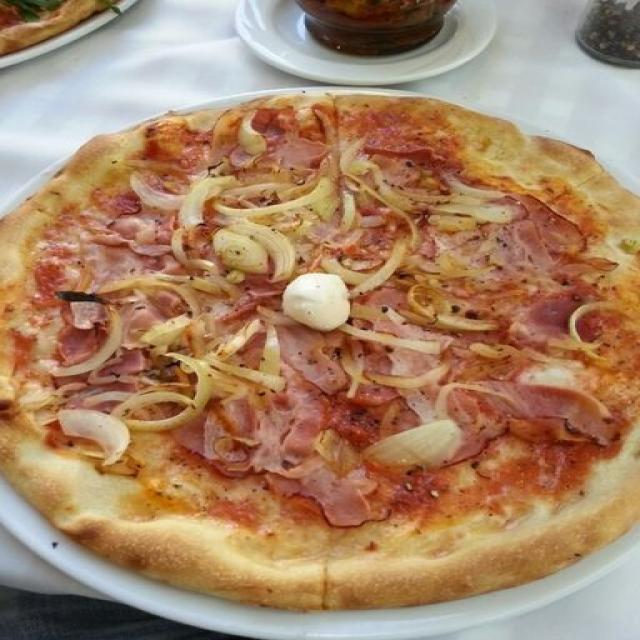Cheese: (280, 267, 348, 328)
Ham: (492, 384, 624, 449), (227, 399, 319, 465), (512, 195, 582, 262), (278, 330, 349, 396), (308, 473, 389, 525), (522, 290, 575, 341), (85, 244, 151, 280), (60, 307, 100, 362), (181, 412, 224, 462), (380, 319, 453, 341), (368, 154, 418, 184), (392, 348, 441, 376), (393, 344, 435, 373), (280, 138, 323, 164), (409, 391, 434, 420), (371, 288, 409, 307), (121, 356, 146, 378)
Onions: (151, 320, 284, 392), (119, 354, 204, 431), (219, 167, 336, 215), (384, 188, 506, 228), (56, 306, 123, 378), (59, 407, 132, 464), (113, 275, 217, 315), (552, 304, 619, 359), (223, 223, 290, 277), (363, 426, 455, 464), (409, 291, 495, 330), (181, 172, 232, 225), (353, 247, 405, 294), (353, 329, 442, 353), (365, 368, 448, 393), (314, 430, 358, 475), (474, 343, 549, 362), (140, 175, 182, 206), (174, 234, 209, 271), (437, 260, 493, 282), (242, 116, 262, 144)
Pizza: (0, 94, 640, 612)
